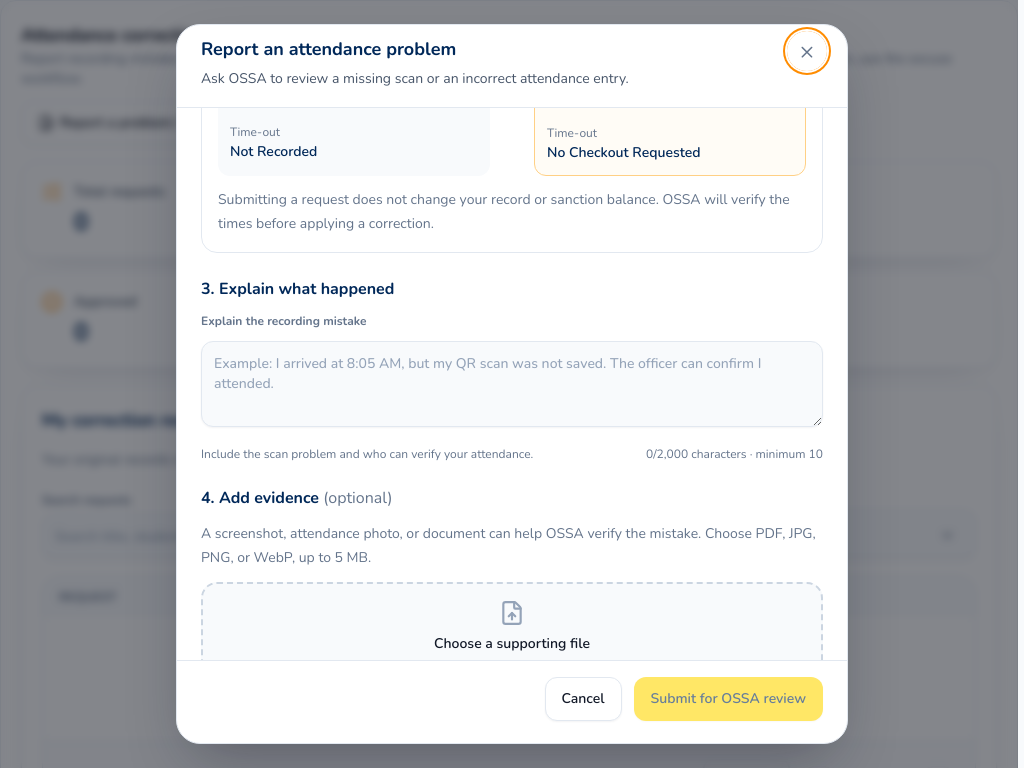
shows a before/after preview and requires an explicit absence choice when no arrival is entered
(page scrolled)
Replace the text in the text box labelled "Explain the recording mistake" with "This entry should be reviewed by OSSA.". click: (512, 384)
box: [201,341,823,427]
(page scrolled)
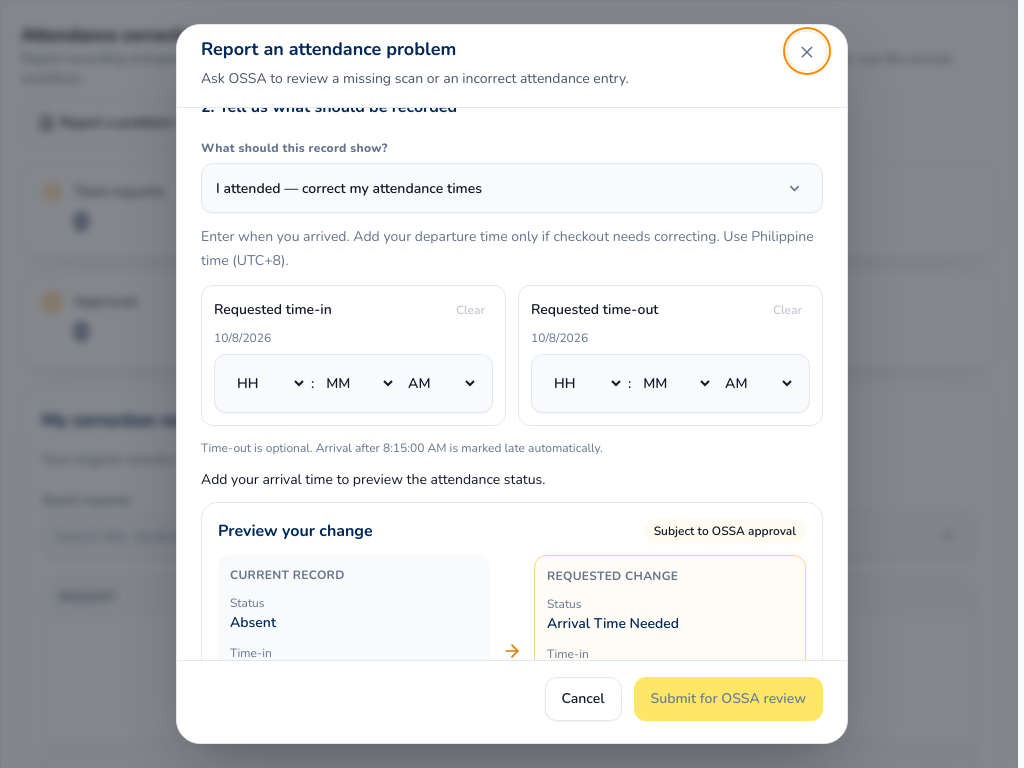
expect the button "Submit for OSSA review" is disabled: met, box [634,677,823,721]
Select "8" in the dropdown named "Requested time-in hour". click: (268, 384)
box: [229,365,307,402]
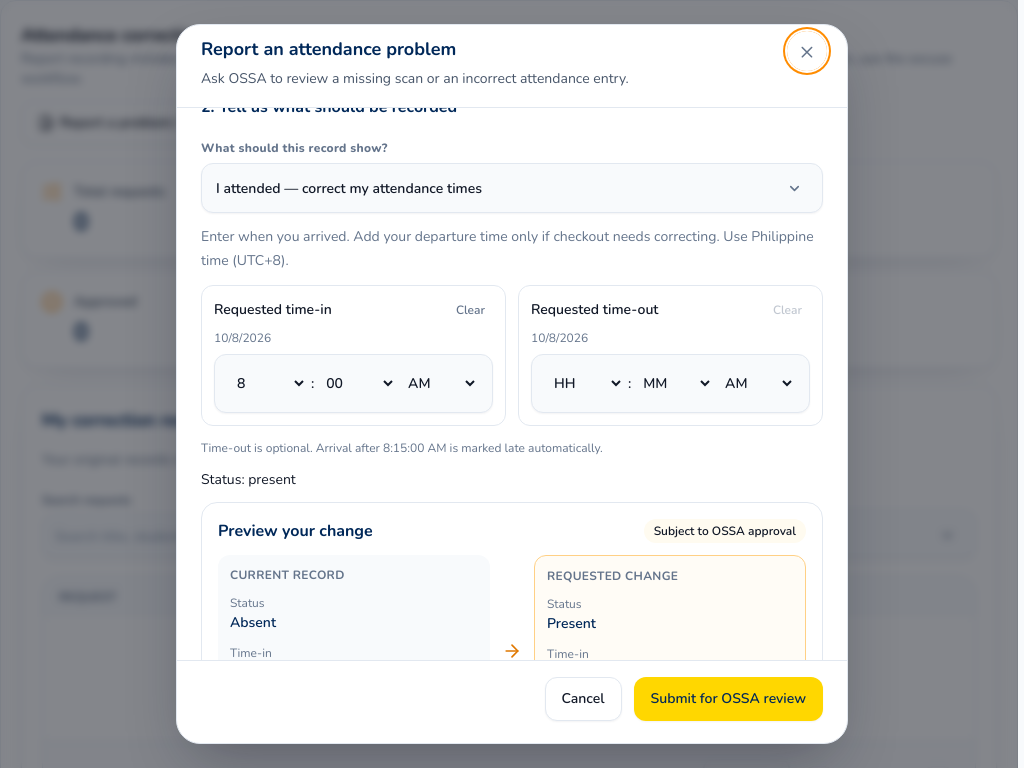
Select "05" in the dropdown named "Requested time-in minute". click: (357, 384)
box: [318,365,396,402]
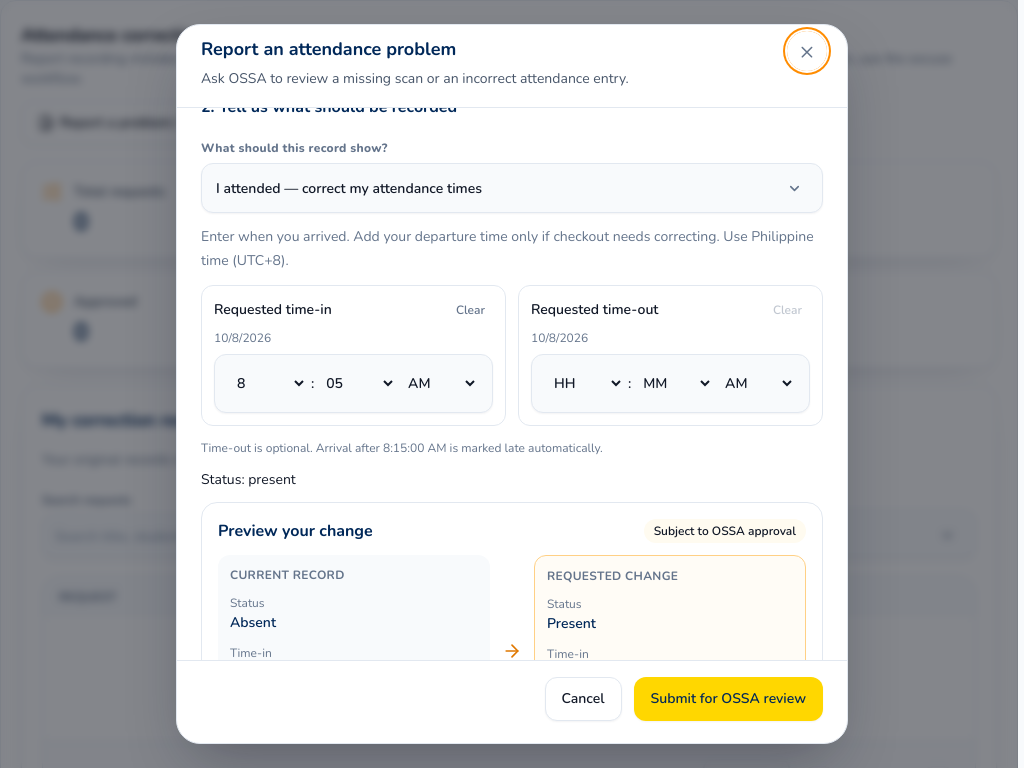
Select "AM" in the dropdown named "Requested time-in AM/PM". click: (439, 384)
box: [400,365,478,402]
expect the element "Requested change" shows "present": met, box [547,614,596,633]
Click the button with aria-label "Attendance outcome". click: (349, 188)
box: [201,163,823,213]
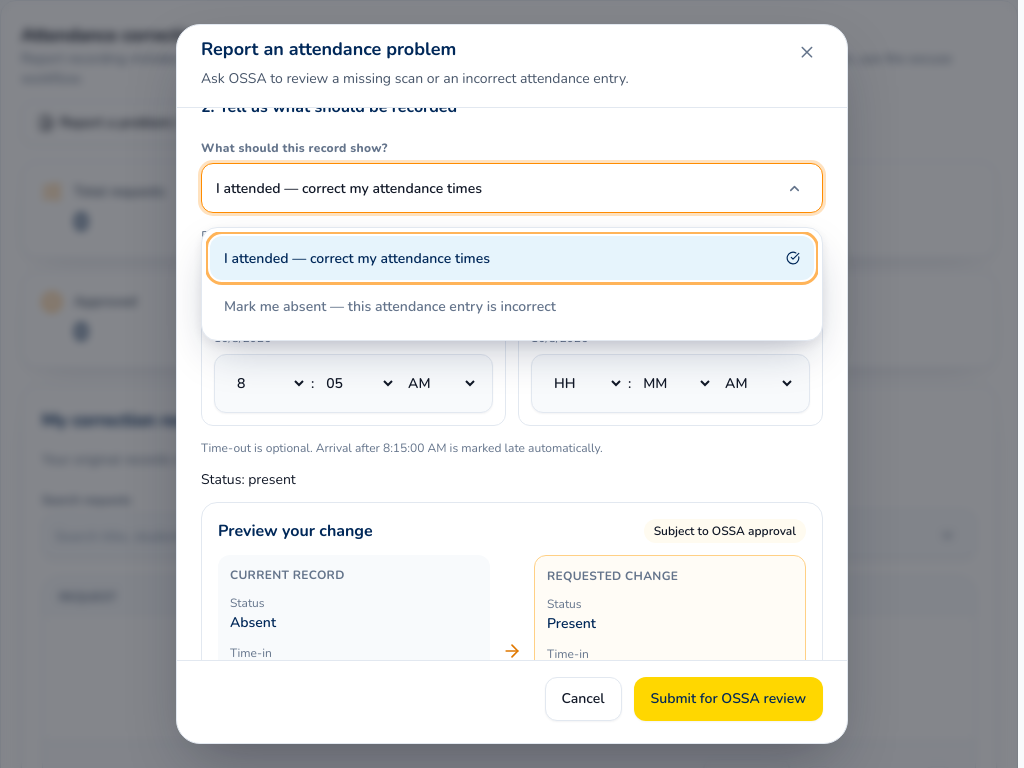
Click the option "Mark me absent — this attendance entry is incorrect". click: (512, 306)
box: [210,284,814,328]
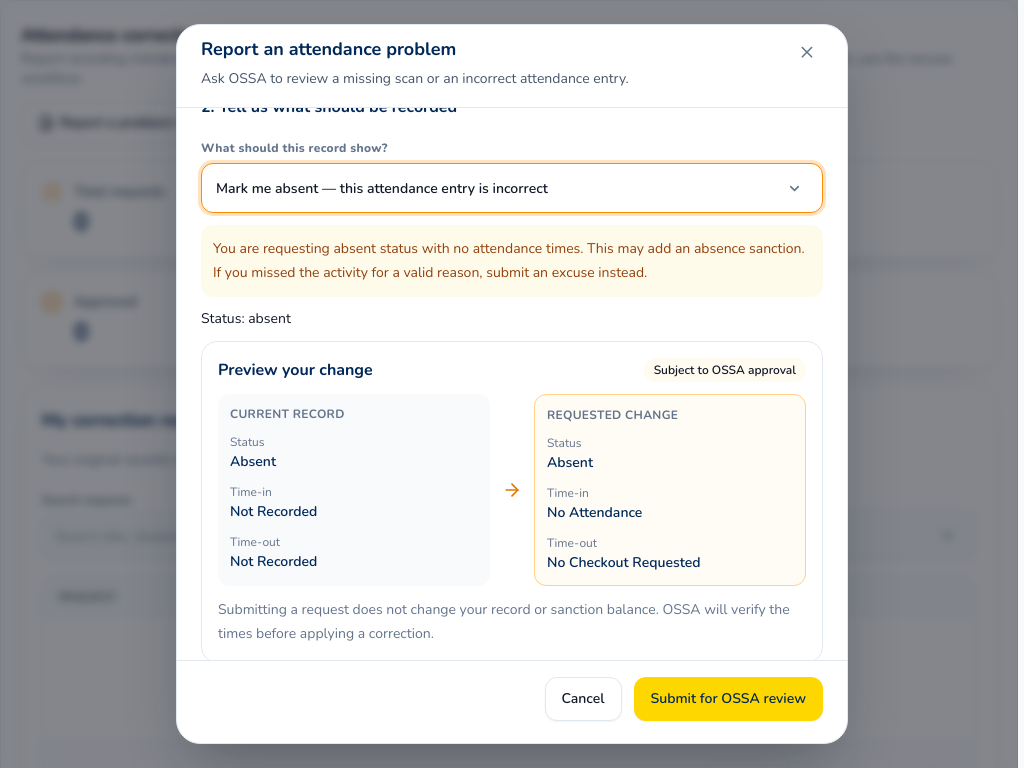
expect the button "Submit for OSSA review" is enabled: met, box [634,677,823,721]
expect the element "Requested change" shows "absent": met, box [547,453,593,472]
